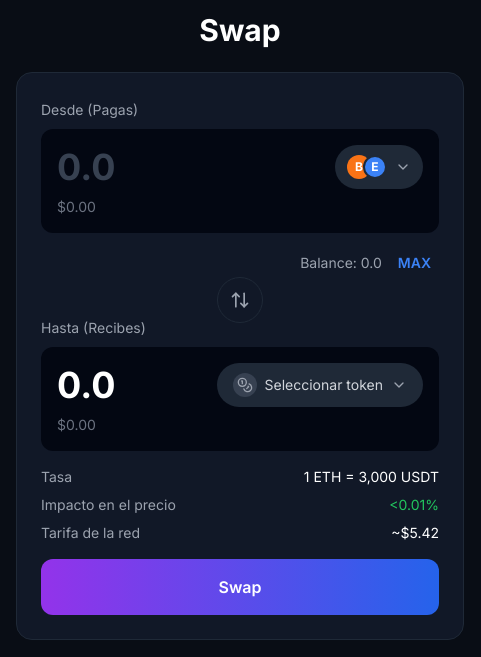
Scenario: SwapInterface › shows a validation error for invalid input
# Submit the form with an empty "from" amount
Click the button with aria-label "execute swap" at (240, 587), box [41,559,439,615]
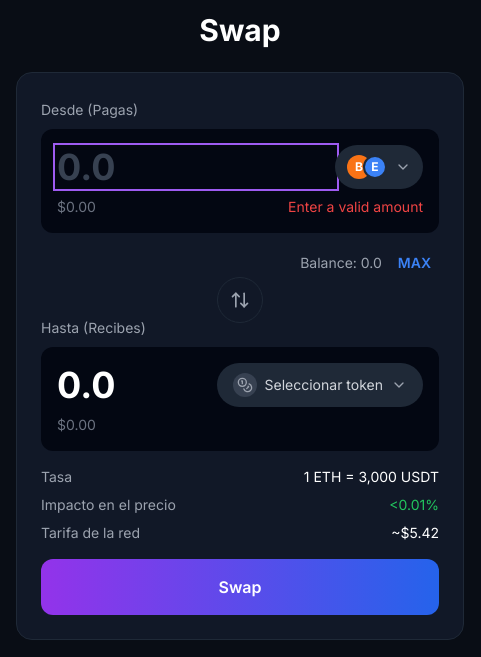
Expected: the text "Enter a valid amount" is shown, [288,197,423,217]
